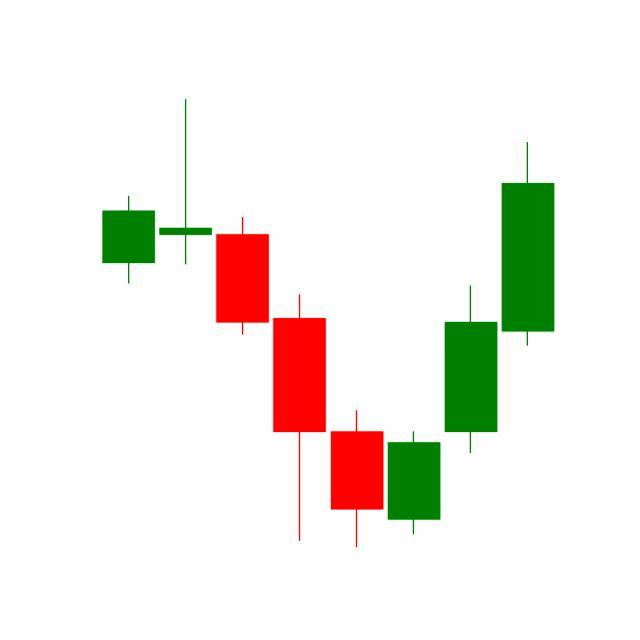Hikkake Pattern: (214, 213, 501, 549)
